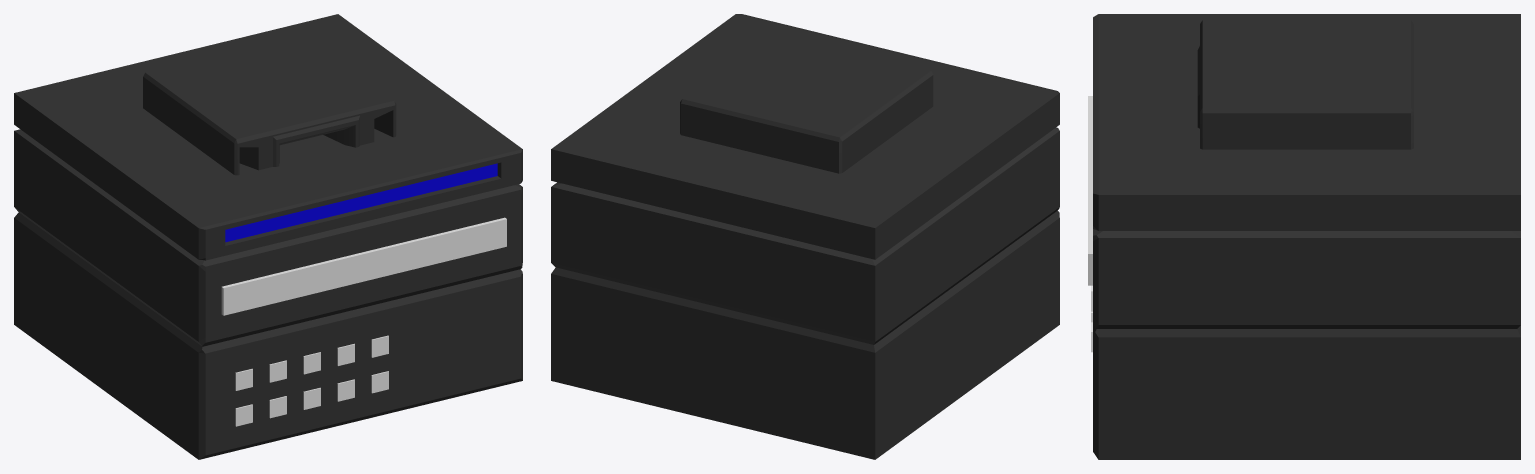
File: Stereo.fbx
The picture shows the model from 3 angles, left to right: view 1: azimuth 30°, elevation 25°; view 2: azimuth 150°, elevation 25°; view 3: azimuth 270°, elevation 25°; orthographic projection. The views are drawn at different scales.
Parts seen in each view (by area): view 1: Sono, Haut parleur; view 2: Sono, Haut parleur; view 3: Sono, Haut parleur.
Part boxes in pixels (bbox=[...]): Sono: bbox=[14, 14, 522, 459]; Haut parleur: bbox=[143, 34, 396, 175]; Sono: bbox=[551, 14, 1059, 459]; Haut parleur: bbox=[680, 32, 933, 173]; Sono: bbox=[1088, 14, 1520, 459]; Haut parleur: bbox=[1197, 20, 1413, 149].
Size of the model in its own units: 12.13 by 9.46 by 12.
